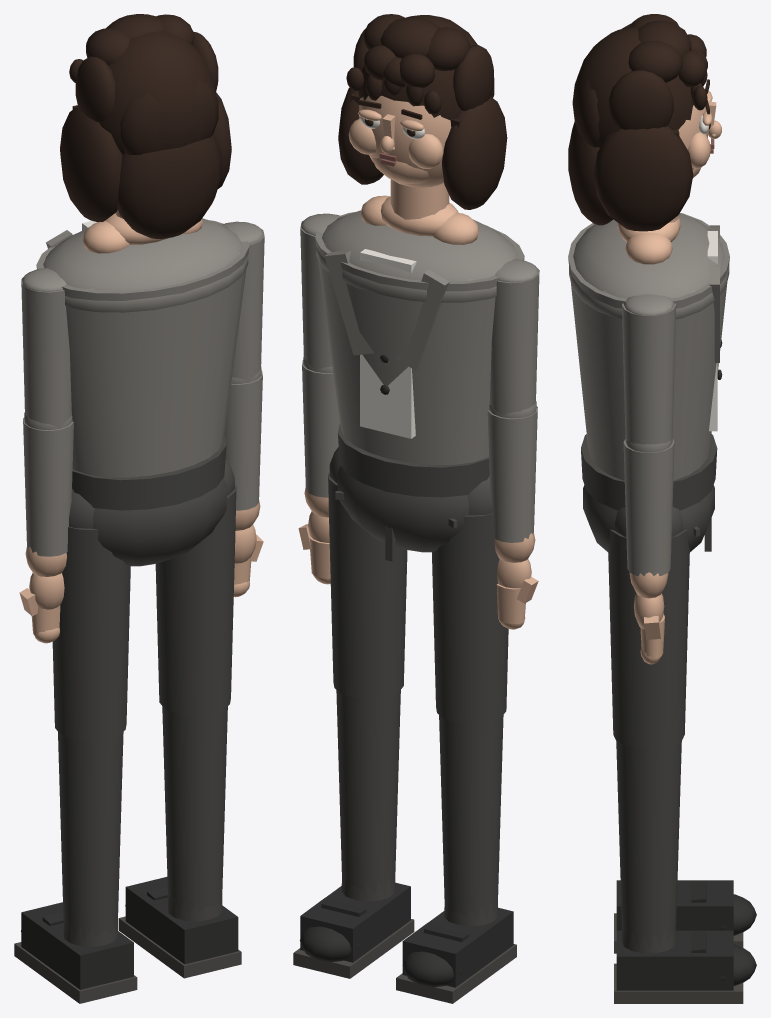
File: female_3.glb
3 views of the same model, side by side, from view 1: azimuth 30°, elevation 25°; view 2: azimuth 150°, elevation 25°; view 3: azimuth 270°, elevation 25° (orthographic).
Parts seen in each view (by area): view 1: Mesh_Torso, Mesh_Hair, Mesh_ThighR, Mesh_ThighL, Mesh_ShinL, Mesh_ShinR, Mesh_Pelvis, Mesh_LowerArmR, Mesh_UpperArmR, Mesh_FootR, Mesh_FootL, Mesh_LowerArmL (+6 smaller); view 2: Mesh_Torso, Mesh_Hair, Mesh_ThighR, Mesh_ThighL, Mesh_ShinL, Mesh_ShinR, Mesh_Pelvis, Mesh_LowerArmR, Mesh_UpperArmR, Mesh_Head, Mesh_Neck, Mesh_LowerArmL (+7 smaller); view 3: Mesh_Torso, Mesh_Hair, Mesh_ThighL, Mesh_ShinL, Mesh_UpperArmL, Mesh_LowerArmL, Mesh_Pelvis, Mesh_FootL, Mesh_ToeL, Mesh_ToeR, Mesh_Head, Mesh_Neck (+2 smaller).
Boxes of the visible parts, x1=… form: Mesh_Torso: x1=36, y1=218, x2=249, y2=477; Mesh_Hair: x1=60, y1=14, x2=231, y2=238; Mesh_ThighR: x1=52, y1=489, x2=130, y2=740; Mesh_ThighL: x1=155, y1=459, x2=236, y2=715; Mesh_ShinL: x1=162, y1=706, x2=227, y2=921; Mesh_ShinR: x1=58, y1=732, x2=123, y2=946; Mesh_Pelvis: x1=72, y1=435, x2=226, y2=566; Mesh_LowerArmR: x1=23, y1=412, x2=73, y2=576; Mesh_UpperArmR: x1=21, y1=268, x2=71, y2=427; Mesh_FootR: x1=14, y1=927, x2=137, y2=1003; Mesh_FootL: x1=118, y1=901, x2=241, y2=978; Mesh_LowerArmL: x1=224, y1=366, x2=262, y2=530; Mesh_Torso: x1=315, y1=210, x2=524, y2=464; Mesh_Hair: x1=338, y1=14, x2=507, y2=209; Mesh_ThighR: x1=432, y1=476, x2=508, y2=723; Mesh_ThighL: x1=328, y1=447, x2=407, y2=698; Mesh_ShinL: x1=336, y1=690, x2=400, y2=901; Mesh_ShinR: x1=439, y1=715, x2=503, y2=926; Mesh_Pelvis: x1=335, y1=424, x2=489, y2=561; Mesh_LowerArmR: x1=487, y1=401, x2=537, y2=562; Mesh_UpperArmR: x1=489, y1=259, x2=539, y2=415; Mesh_Head: x1=348, y1=95, x2=451, y2=187; Mesh_Neck: x1=360, y1=179, x2=478, y2=244; Mesh_LowerArmL: x1=302, y1=357, x2=339, y2=517; Mesh_Torso: x1=568, y1=213, x2=729, y2=480; Mesh_Hair: x1=568, y1=14, x2=707, y2=231; Mesh_ThighL: x1=608, y1=507, x2=689, y2=749; Mesh_ShinL: x1=616, y1=741, x2=681, y2=953; Mesh_UpperArmL: x1=622, y1=294, x2=676, y2=444; Mesh_LowerArmL: x1=623, y1=439, x2=674, y2=598; Mesh_Pelvis: x1=581, y1=434, x2=717, y2=552; Mesh_FootL: x1=614, y1=930, x2=743, y2=1003; Mesh_ToeL: x1=683, y1=930, x2=756, y2=990; Mesh_ToeR: x1=683, y1=880, x2=756, y2=935; Mesh_Head: x1=678, y1=79, x2=721, y2=178; Mesh_Neck: x1=617, y1=215, x2=680, y2=264.
Bounding box in the file's own units: 0.4775 × 1.82 × 0.3325.
